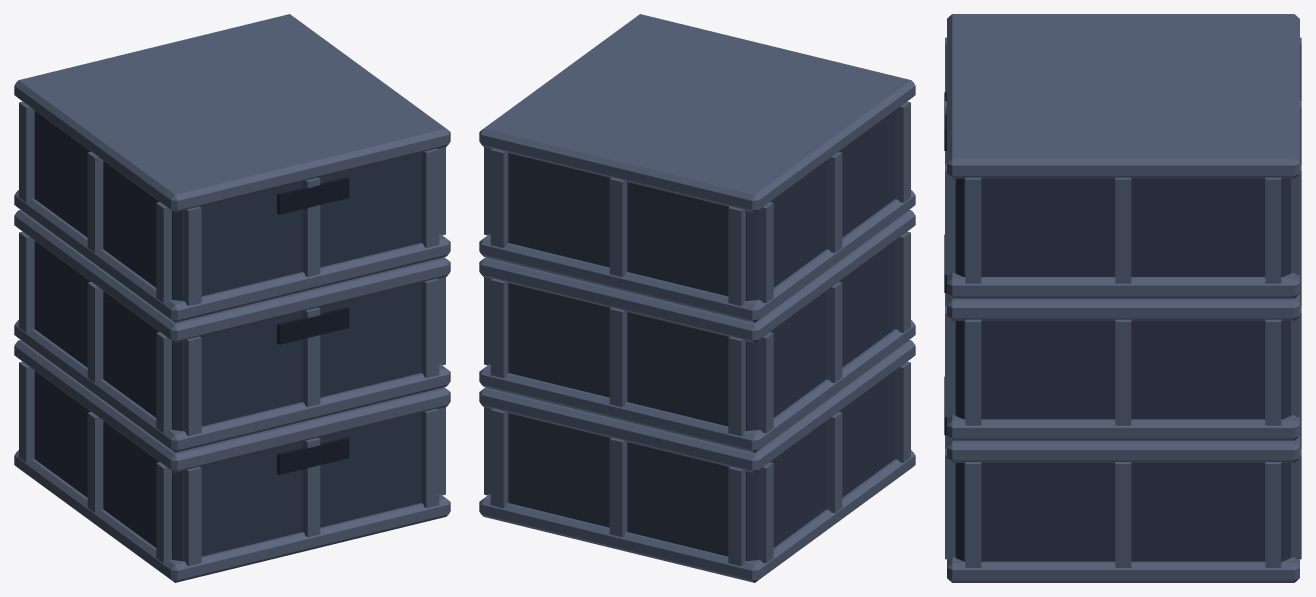
Rendered from city_crates.glb.
3 renders of one model, left to right at view 1: azimuth 30°, elevation 25°; view 2: azimuth 150°, elevation 25°; view 3: azimuth 270°, elevation 25°, orthographic. The views are drawn at different scales.
Parts seen in each view (by area): view 1: rim.005, crate_shell.002, crate_shell, crate_shell.001, rim.003, rim.001, rim, rim.004, rim.002, front_rib.005, front_rib.008, front_rib.002 (+21 smaller); view 2: rim.005, crate_shell, crate_shell.001, crate_shell.002, rim.003, rim.001, rim, rim.004, rim.002, back_rib.005, back_rib.008, back_rib.007 (+18 smaller); view 3: rim.005, crate_shell.002, crate_shell, crate_shell.001, rim.001, rim.003, rim.002, rim.004, rim, side_rib.006, side_rib.008, side_rib.010 (+12 smaller).
Part boxes in pixels (x1,y1,x2,y2): rim.005: (14, 14, 450, 212); crate_shell.002: (34, 110, 421, 300); crate_shell: (34, 371, 421, 561); crate_shell.001: (34, 240, 421, 430); rim.003: (14, 210, 450, 342); rim.001: (14, 340, 450, 473); rim: (14, 450, 450, 582); rim.004: (14, 190, 450, 322); rim.002: (14, 320, 450, 452); front_rib.005: (421, 278, 439, 378); front_rib.008: (421, 148, 439, 247); front_rib.002: (421, 408, 439, 508); rim.005: (479, 14, 915, 212); crate_shell: (508, 371, 895, 561); crate_shell.001: (508, 240, 895, 430); crate_shell.002: (508, 110, 895, 300); rim.003: (479, 210, 915, 342); rim.001: (479, 340, 915, 473); rim: (479, 450, 915, 582); rim.004: (479, 190, 915, 322); rim.002: (479, 320, 915, 452); back_rib.005: (490, 278, 508, 378); back_rib.008: (490, 148, 508, 247); back_rib.007: (609, 177, 627, 276); rim.005: (947, 14, 1299, 178); crate_shell.002: (955, 178, 1290, 276); crate_shell: (955, 463, 1290, 561); crate_shell.001: (955, 321, 1290, 419); rim.001: (947, 436, 1299, 462); rim.003: (947, 294, 1299, 320); rim.002: (947, 415, 1299, 440); rim.004: (947, 273, 1299, 298); rim: (947, 557, 1299, 582); side_rib.006: (1265, 319, 1281, 425); side_rib.008: (1115, 319, 1131, 425); side_rib.010: (965, 319, 981, 425).
Bounding box in the file's own units: 1.21 × 1.59 × 1.21.
